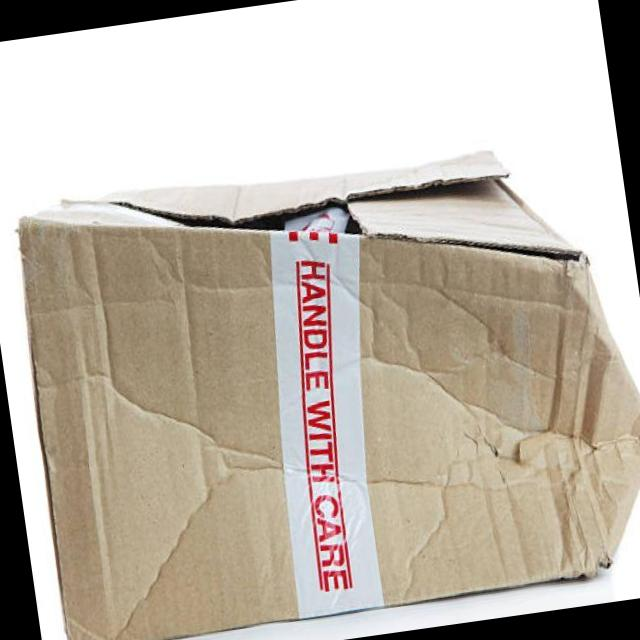box: (11, 75, 603, 542)
opened: (12, 77, 471, 365)
